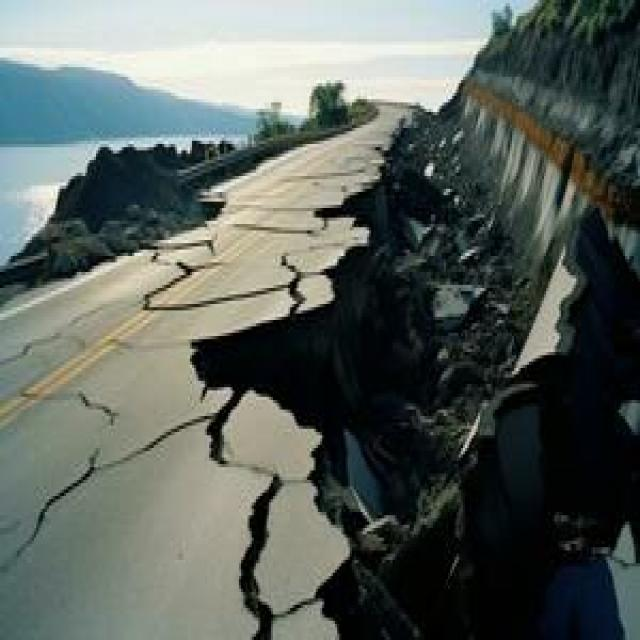road collapse: (17, 67, 638, 640)
